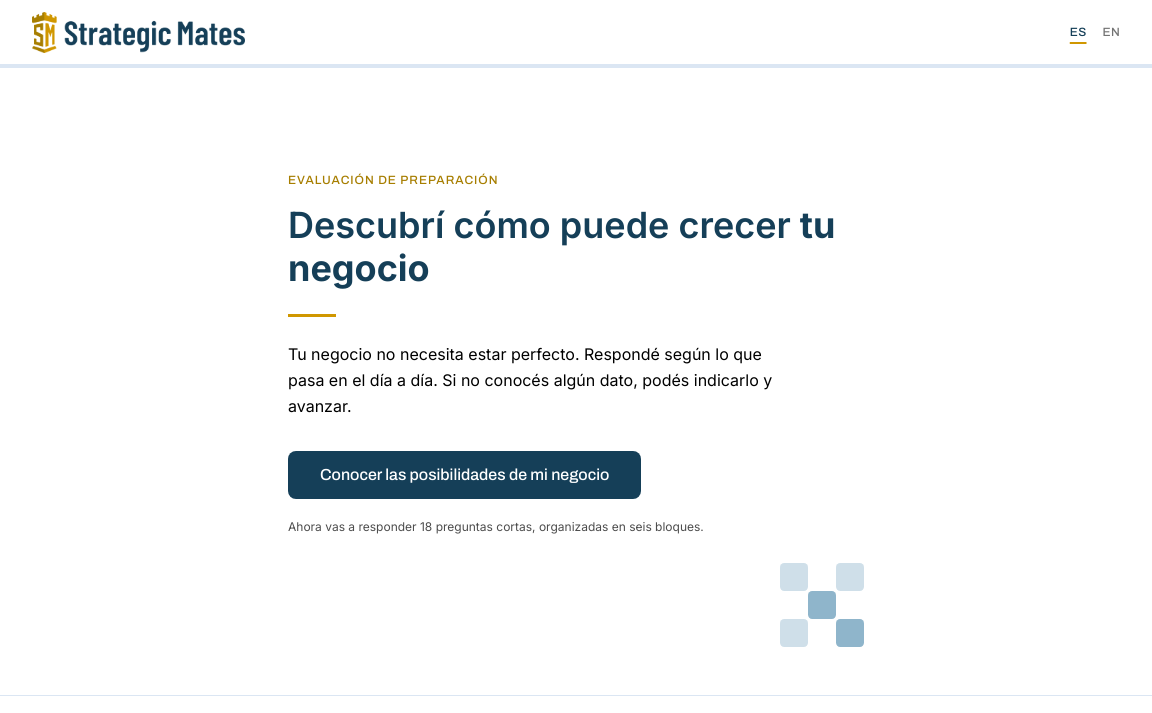
it: ReadinessPage intro and profile › shows the intro in Spanish by default and switches language
This screenshot has width=1152, height=713.
Expected: the heading "Descubrí cómo puede crecer tu negocio" is shown, 288,204 -> 864,290
Expected: the text "Ahora vas a responder 18 preguntas cortas, organizadas en seis bloques." is shown, 288,519 -> 704,534
What coordinates should you click on to do the following:
click the button "EN"
I would click on:
 (1111, 32)
Its box is 1102,20 -> 1120,44.
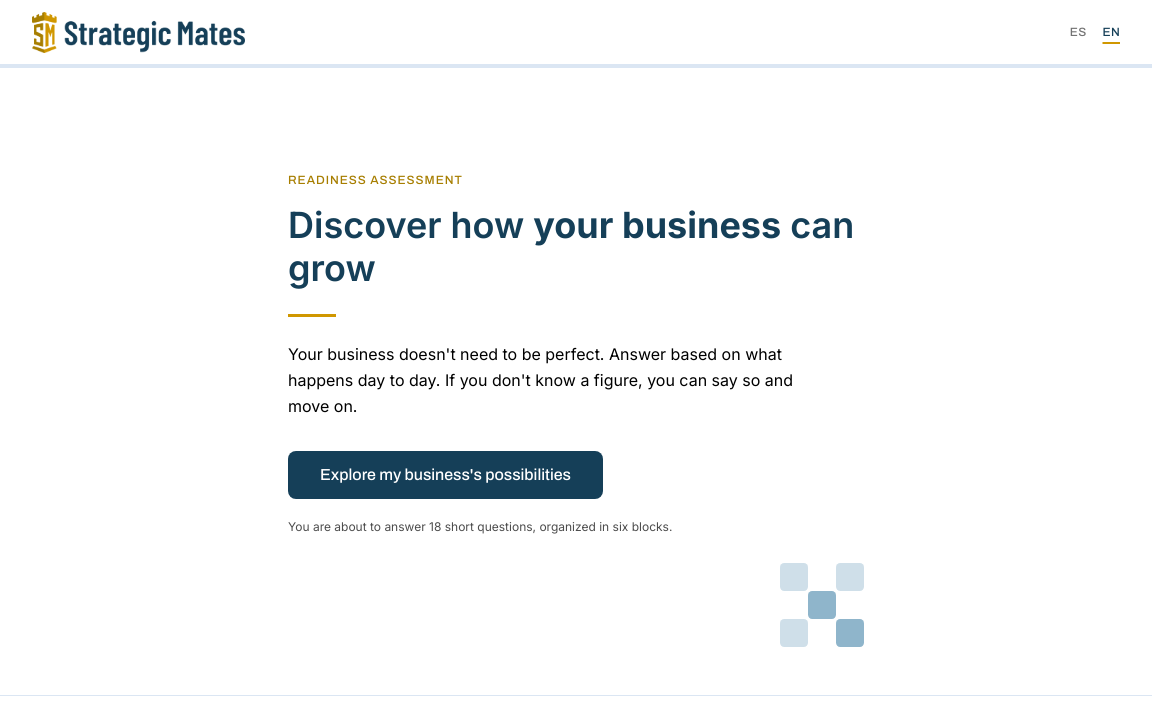
Result: the heading "Discover how your business can grow" is shown at 288,204 -> 864,290
